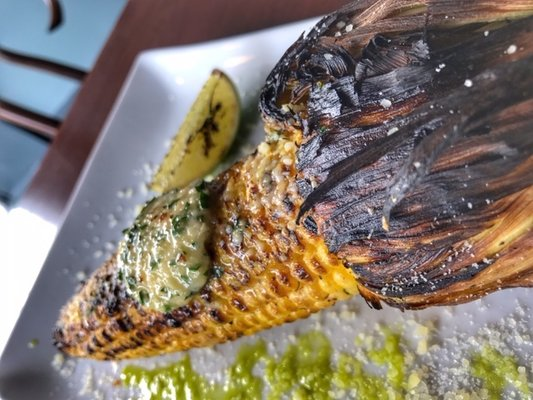pasta: (146, 68, 243, 197)
